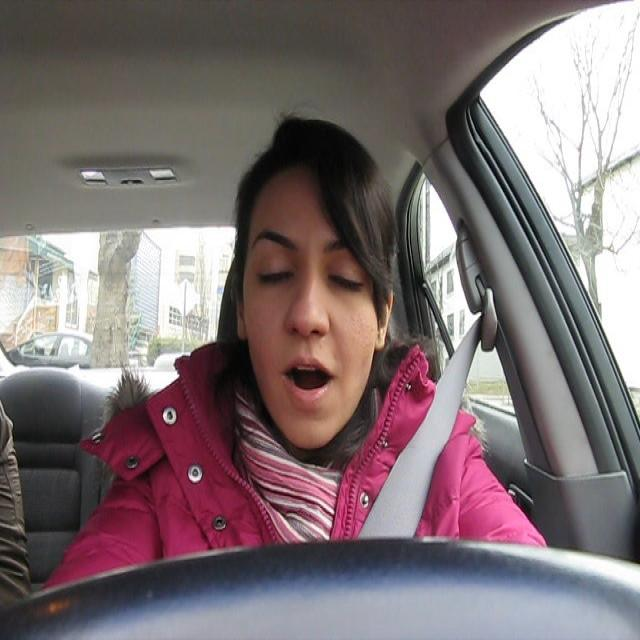Eyeclosed: (328, 262, 364, 304), (260, 250, 294, 294)
